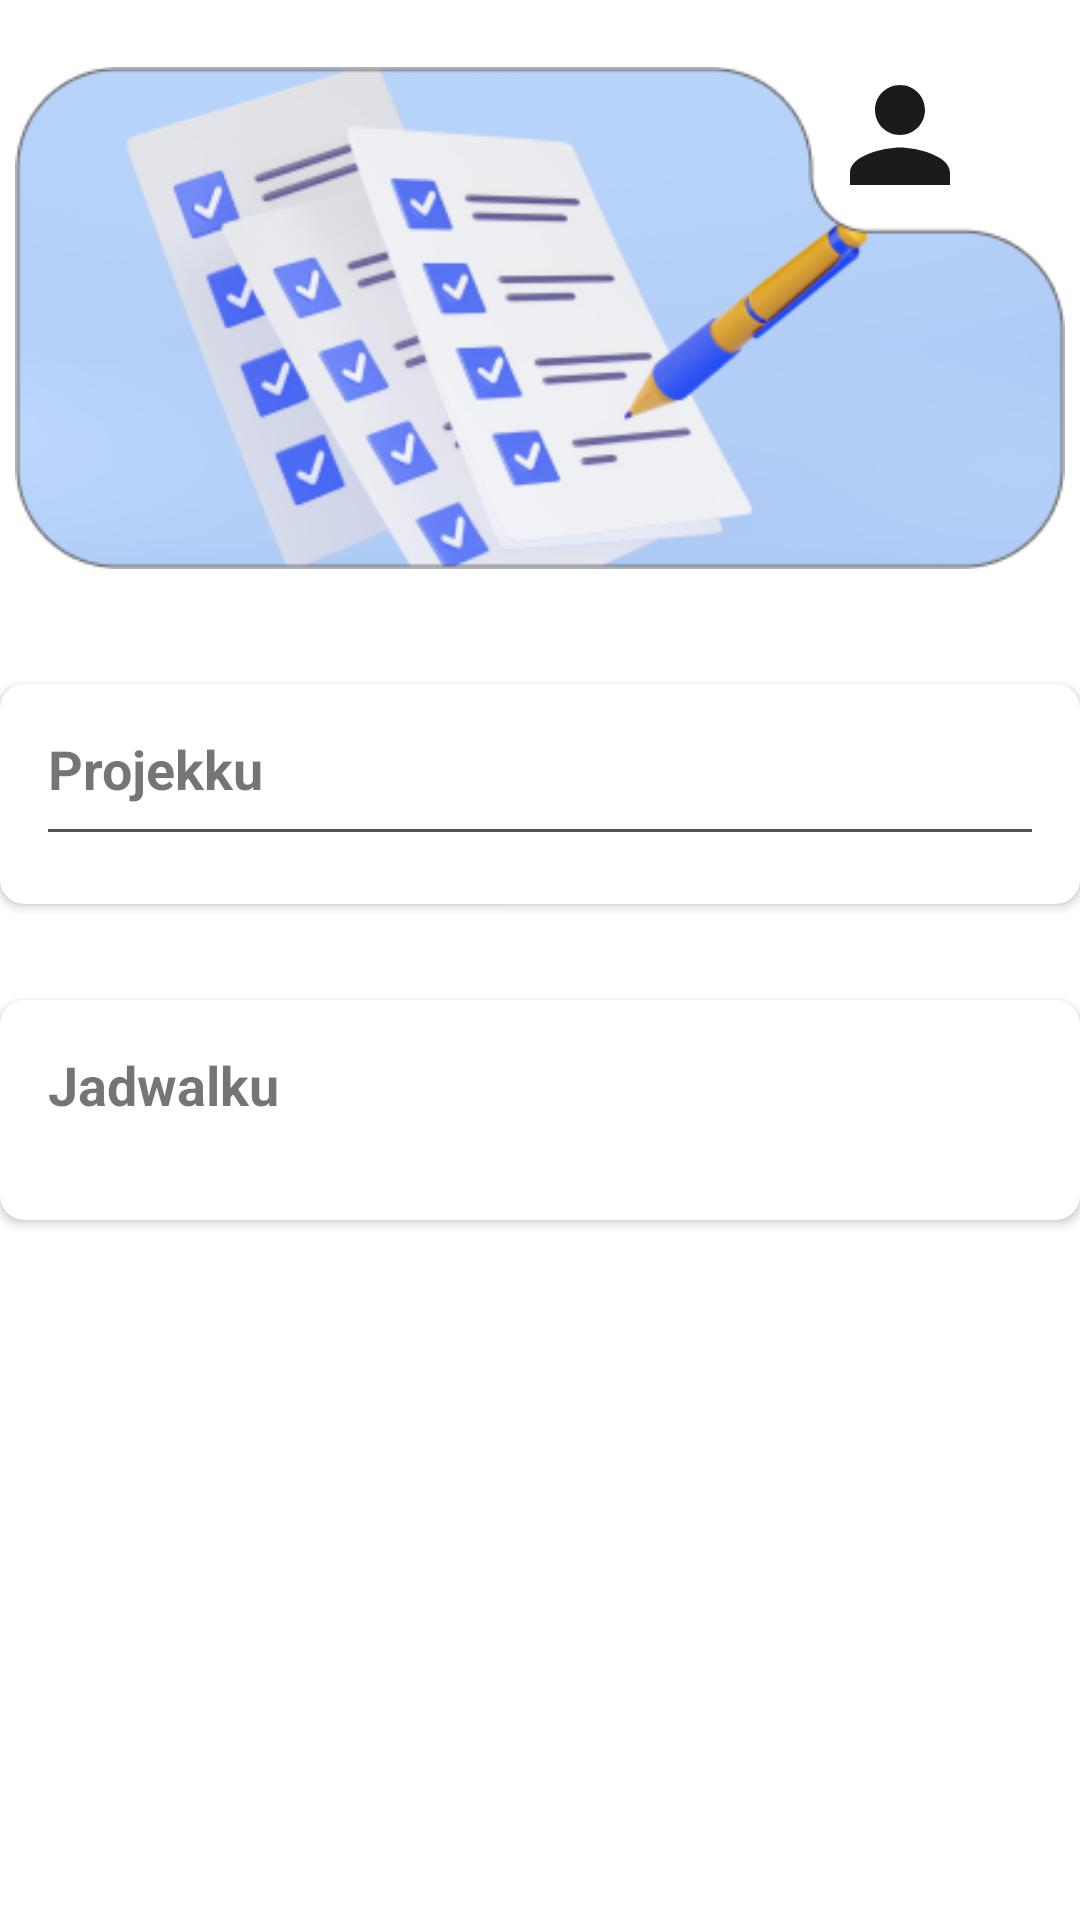

Named icons in this screenshot (1080x1920) and their centers, point (x, y):
user: point (900, 135)
